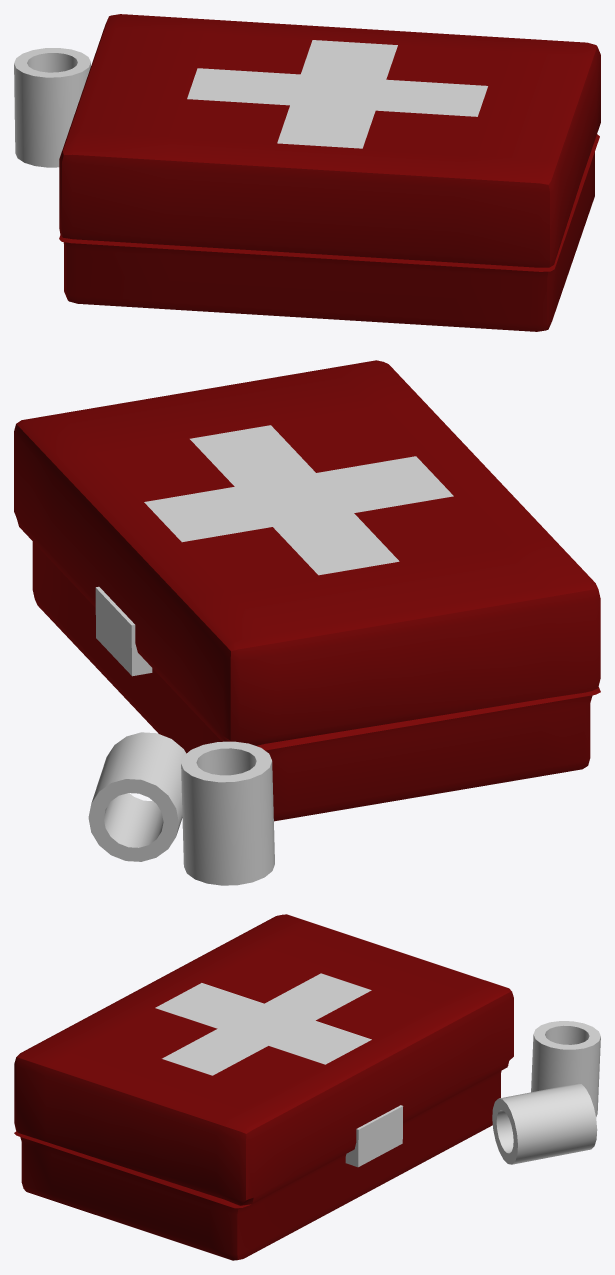
The model's file is SM_Medecine.fbx.
The picture shows the model from 3 angles, top to bottom: view 1: azimuth 30°, elevation 25°; view 2: azimuth 150°, elevation 25°; view 3: azimuth 270°, elevation 25°; orthographic projection. The views are drawn at different scales.
Visible parts, largest first — view 1: Medecine; view 2: Medecine; view 3: Medecine.
Part boxes in pixels (bbox=[...]): Medecine: bbox=[14, 14, 600, 331]; Medecine: bbox=[14, 360, 600, 885]; Medecine: bbox=[14, 914, 600, 1260].
Bounding box in the file's own units: 27.55 × 8.3 × 30.93.
